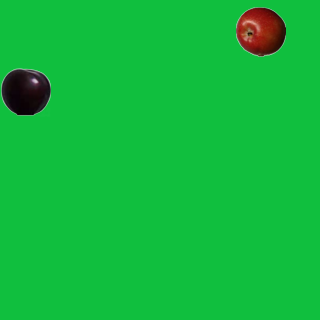Apple Braeburn: (235, 6, 285, 56)
Cherry Wax Black: (0, 66, 50, 116)
